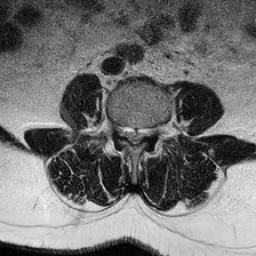CCS_stenosis: (131, 117, 139, 153)
LFS_normal: (147, 117, 156, 142)
LLS_normal: (139, 117, 147, 149)
RFS_normal: (114, 113, 123, 141)
RLS_normal: (123, 116, 131, 147)
